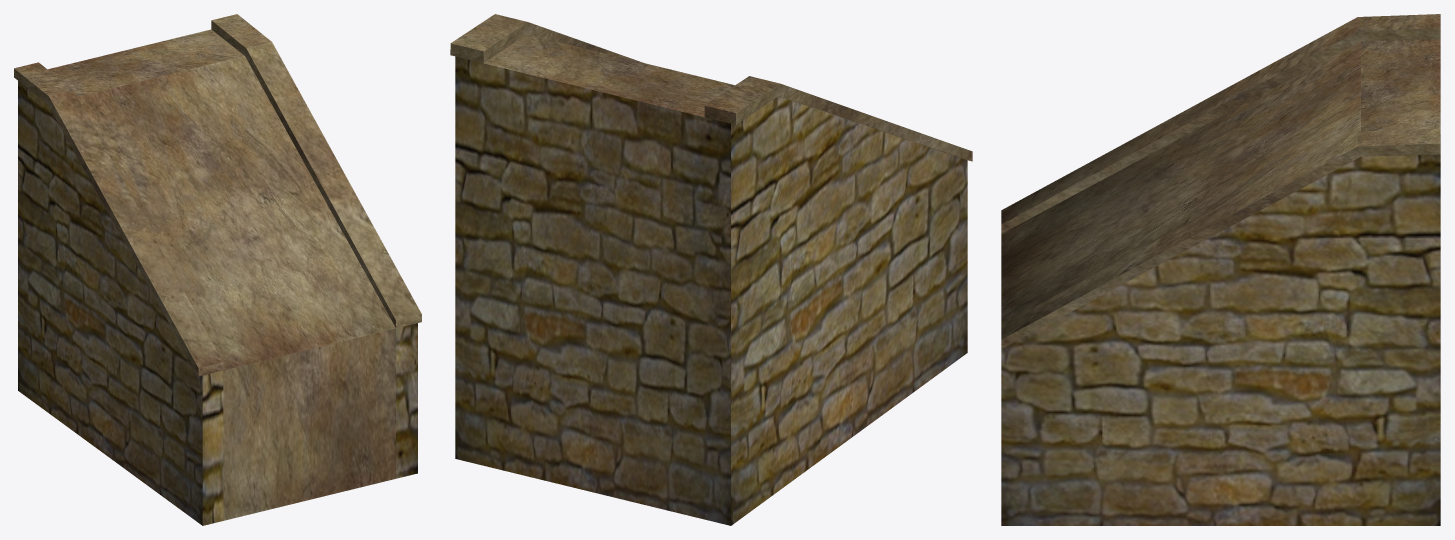
Rendered from stone_ramp_single.fbx.
3 renders of one model, left to right at view 1: azimuth 30°, elevation 25°; view 2: azimuth 150°, elevation 25°; view 3: azimuth 270°, elevation 25°, orthographic. The views are drawn at different scales.
Visible parts, largest first — view 1: polySurface5, polySurface6; view 2: polySurface5, polySurface6; view 3: polySurface5, polySurface6.
Boxes of the visible parts, left/top/right/bottom form: polySurface5: left=14, top=14, right=421, bottom=525; polySurface6: left=48, top=29, right=395, bottom=370; polySurface5: left=450, top=14, right=972, bottom=525; polySurface6: left=484, top=34, right=734, bottom=116; polySurface5: left=1001, top=14, right=1440, bottom=525; polySurface6: left=1001, top=39, right=1440, bottom=324.
Size of the model in its own units: 777 by 1077 by 1114.
1 material, 1 textured.
